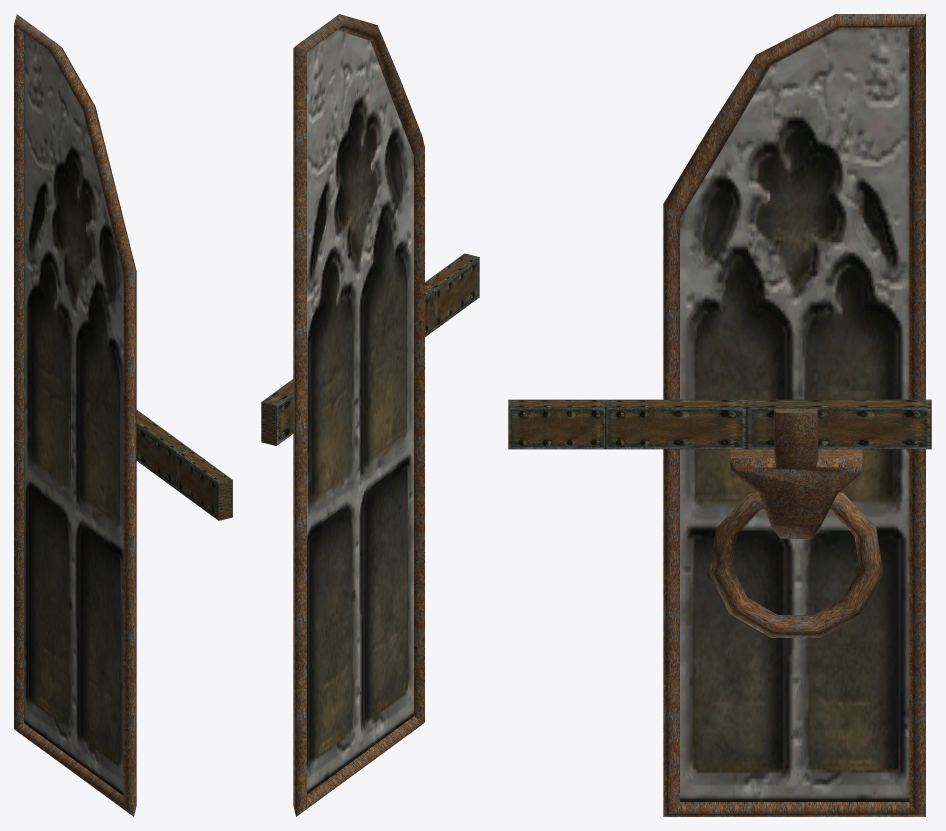
Rendered from ARKENSTON_DOOR_02.fbx.
3 views of the same model, side by side, from view 1: azimuth 30°, elevation 25°; view 2: azimuth 150°, elevation 25°; view 3: azimuth 270°, elevation 25° (orthographic). The views are drawn at different scales.
Parts seen in each view (by area): view 1: ARKENSTON_DOOR_02; view 2: ARKENSTON_DOOR_02; view 3: ARKENSTON_DOOR_02.
Part boxes in pixels (x1,y1,x2,y2): ARKENSTON_DOOR_02: (14, 14, 232, 816); ARKENSTON_DOOR_02: (261, 14, 479, 816); ARKENSTON_DOOR_02: (508, 14, 931, 816).
Bounding box in the file's own units: 7568 × 106589 × 50890.
Materials: 3 (3 with a texture image).
